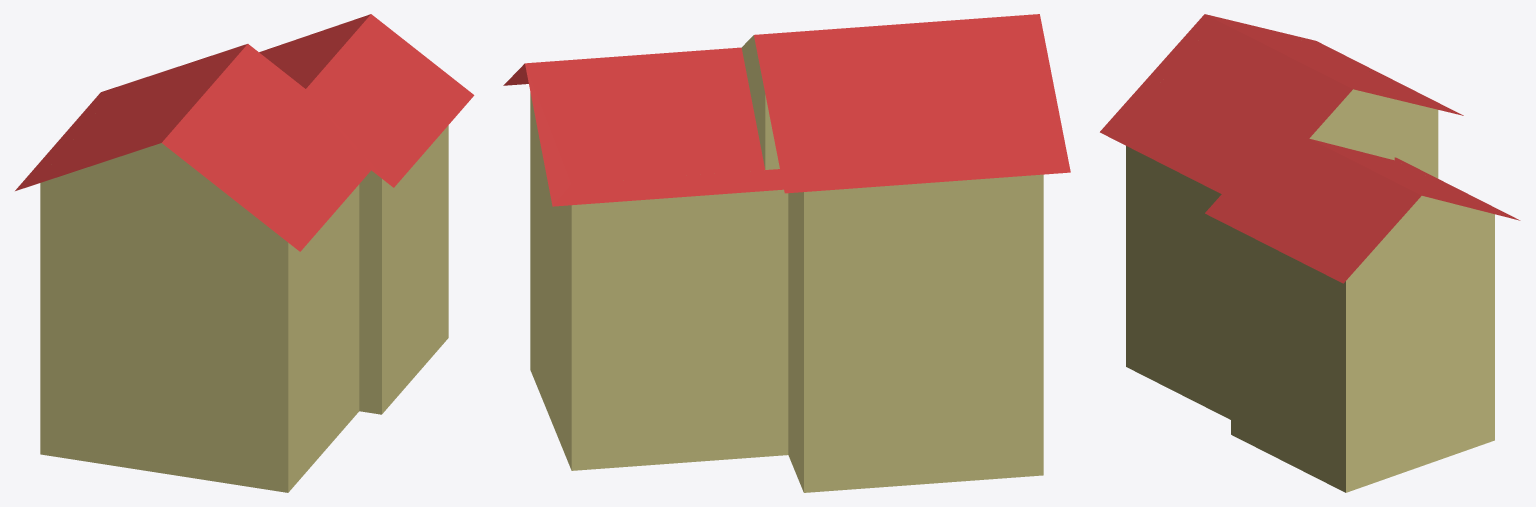
3 renders of one model, left to right at view 1: azimuth 30°, elevation 25°; view 2: azimuth 150°, elevation 25°; view 3: azimuth 270°, elevation 25°, orthographic. The views are drawn at different scales.
Parts seen in each view (by area): view 1: group_5, group_3, group_4, group_7; view 2: group_5, group_9, group_3, group_7, group_4, group_8; view 3: group_5, group_3, group_9, group_4, group_7, group_8.
Boxes of the visible parts, bbox=[...] form: group_5: bbox=[40, 125, 448, 492]; group_3: bbox=[41, 18, 472, 228]; group_4: bbox=[15, 14, 473, 251]; group_7: bbox=[259, 14, 370, 88]; group_5: bbox=[530, 35, 1043, 492]; group_9: bbox=[548, 184, 765, 470]; group_3: bbox=[503, 14, 1062, 192]; group_7: bbox=[525, 47, 765, 206]; group_4: bbox=[504, 14, 1070, 193]; group_8: bbox=[526, 63, 783, 206]; group_5: bbox=[1126, 89, 1438, 492]; group_3: bbox=[1126, 14, 1437, 283]; group_9: bbox=[1410, 196, 1494, 470]; group_4: bbox=[1100, 14, 1463, 283]; group_7: bbox=[1310, 139, 1519, 220]; group_8: bbox=[1394, 157, 1520, 220].
Size of the model in its own units: 20.34 by 16.89 by 13.89.
